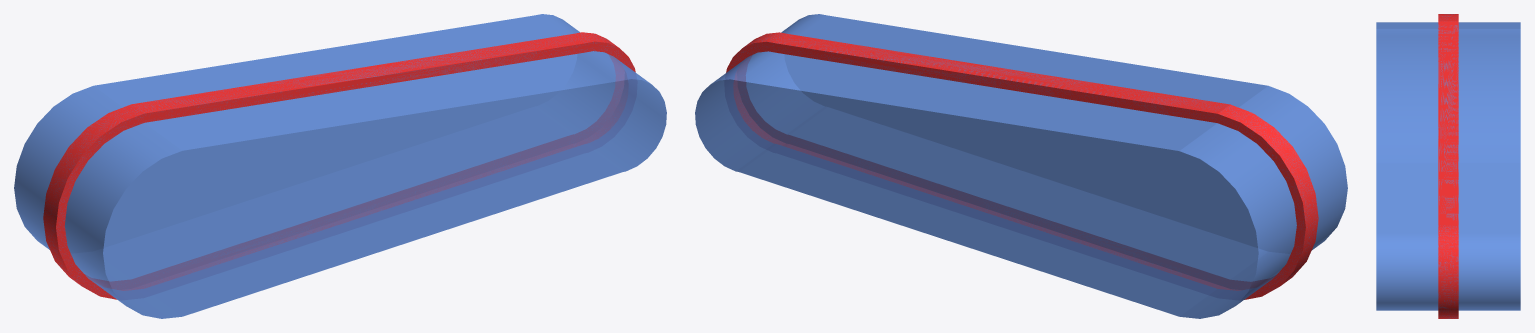
File: flipper.dae
3 renders of one model, left to right at view 1: azimuth 30°, elevation 25°; view 2: azimuth 150°, elevation 25°; view 3: azimuth 270°, elevation 25°, orthographic. The views are drawn at different scales.
Parts seen in each view (by area): view 1: SketchUp (×3); view 2: SketchUp (×3); view 3: SketchUp (×3).
Part boxes in pixels (<box>): SketchUp (×3): <box>14,14,666,318</box>; SketchUp (×3): <box>695,14,1347,318</box>; SketchUp (×3): <box>1376,14,1520,318</box>.
Size of the model in its own units: 260 by 68.9 by 78.74.
